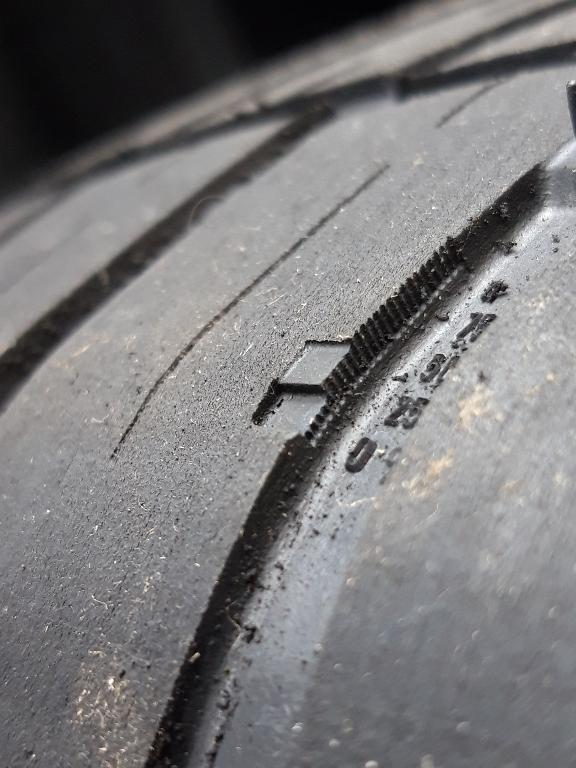temoin:25: (242, 331, 381, 466)
